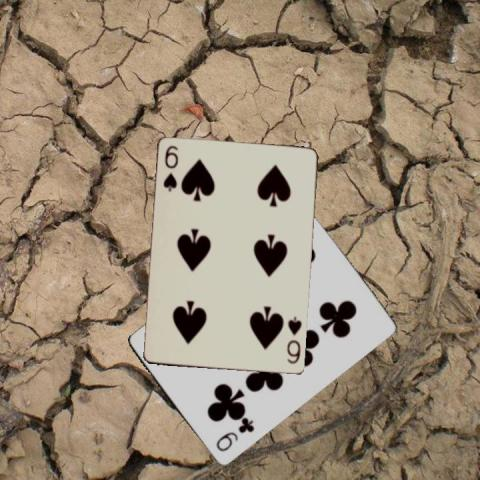6s: (284, 315, 303, 366), (161, 144, 180, 193)
9c: (213, 417, 256, 454)
